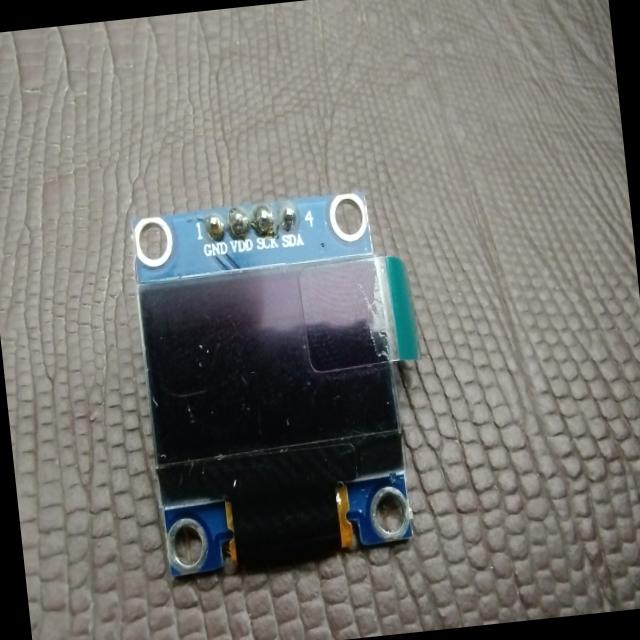oled: (122, 180, 442, 586)
